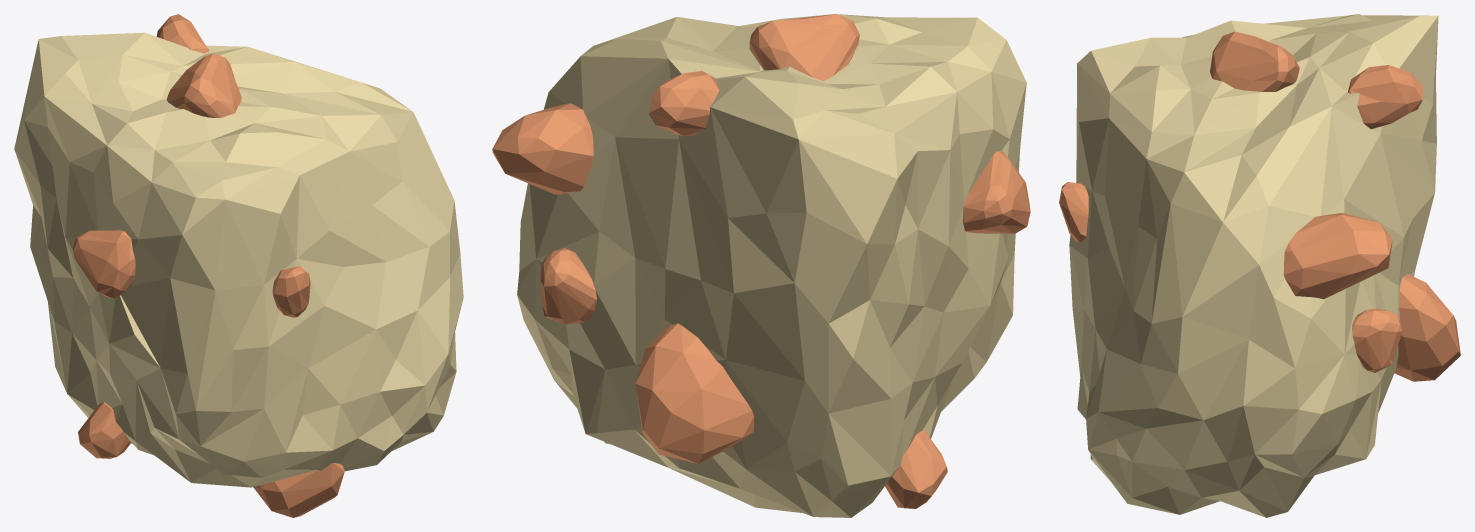
File: StoneOre (2).fbx
3 views of the same model, side by side, from view 1: azimuth 30°, elevation 25°; view 2: azimuth 150°, elevation 25°; view 3: azimuth 270°, elevation 25° (orthographic). The views are drawn at different scales.
Parts seen in each view (by area): view 1: Asteroid289; view 2: Asteroid289; view 3: Asteroid289.
Part boxes in pixels (x1,y1,x2,y2): Asteroid289: (14, 14, 463, 517); Asteroid289: (492, 14, 1030, 517); Asteroid289: (1059, 14, 1460, 517).
Bounding box in the file's own units: 703 × 745 × 613.
